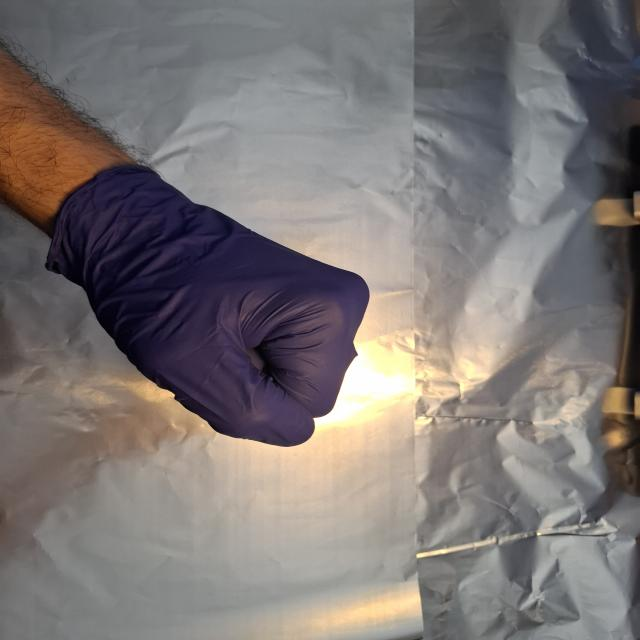glove_on: (42, 161, 376, 451)
